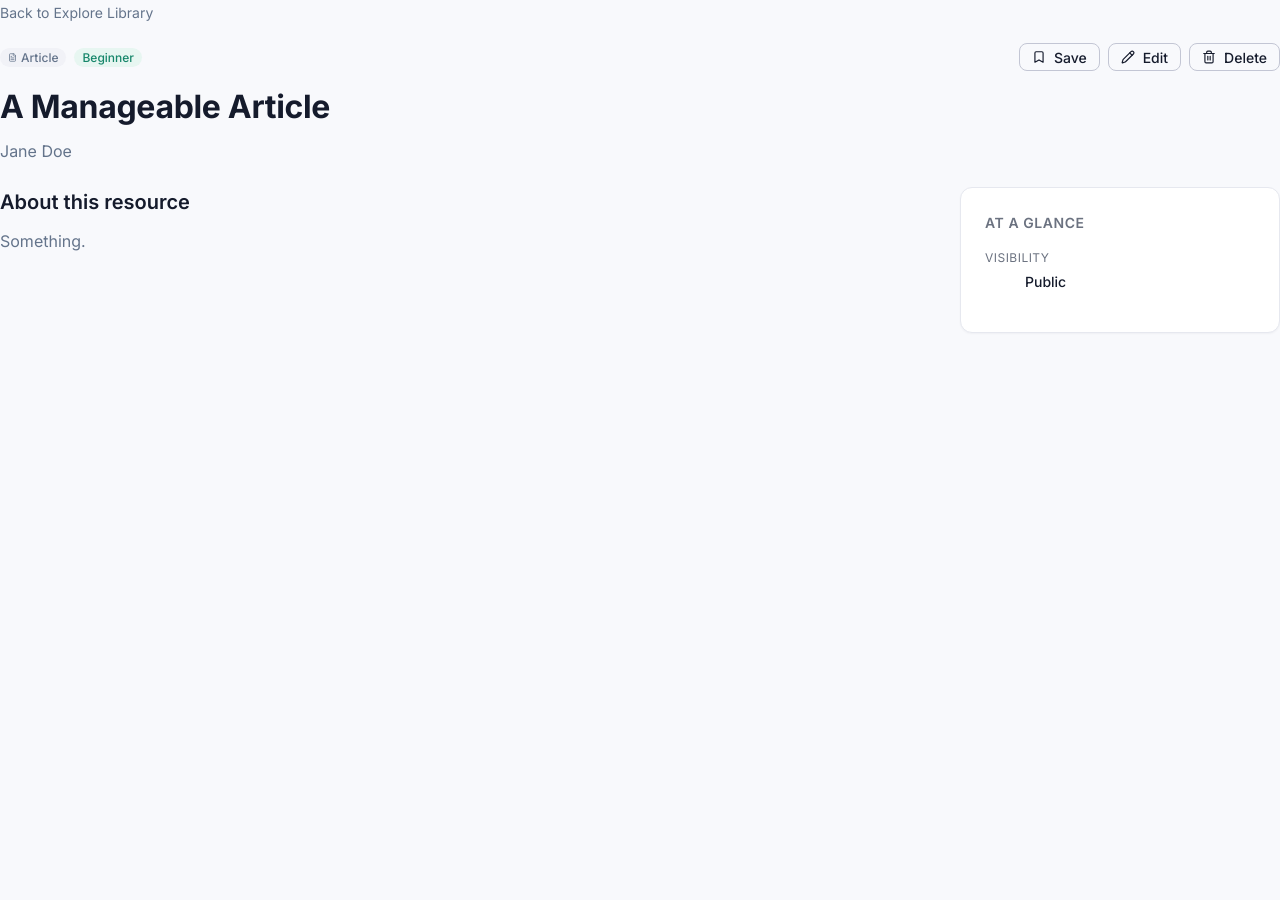
it: ResourceDetailsPage › deletes the resource after explicit confirmation and navigates back to the library
Click the button "Delete" at (1235, 57), box [1189, 43, 1279, 71]
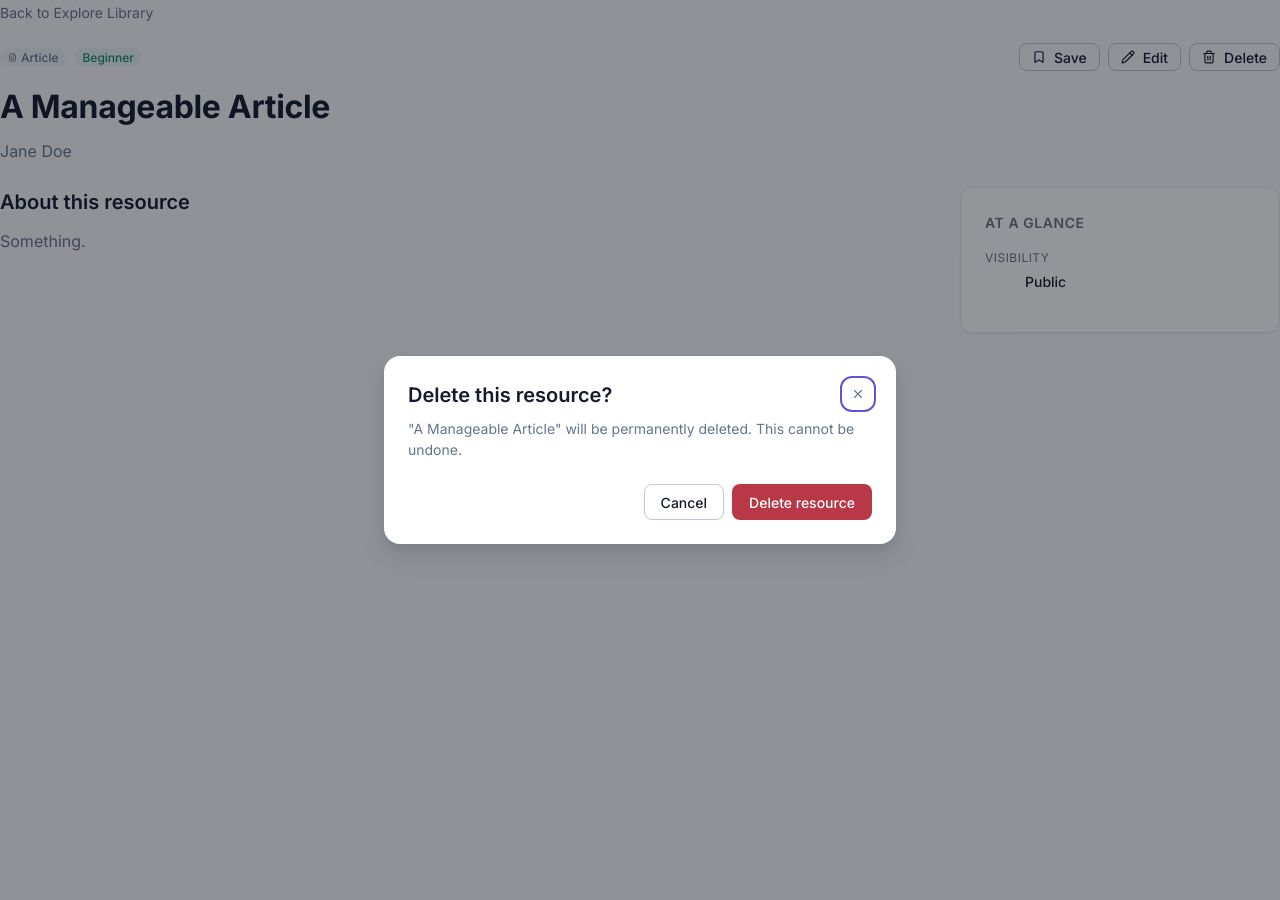
Now the text "will be permanently deleted" is shown, box [408, 420, 854, 458]
Click the button "Delete resource" at (802, 502), box [732, 484, 872, 520]
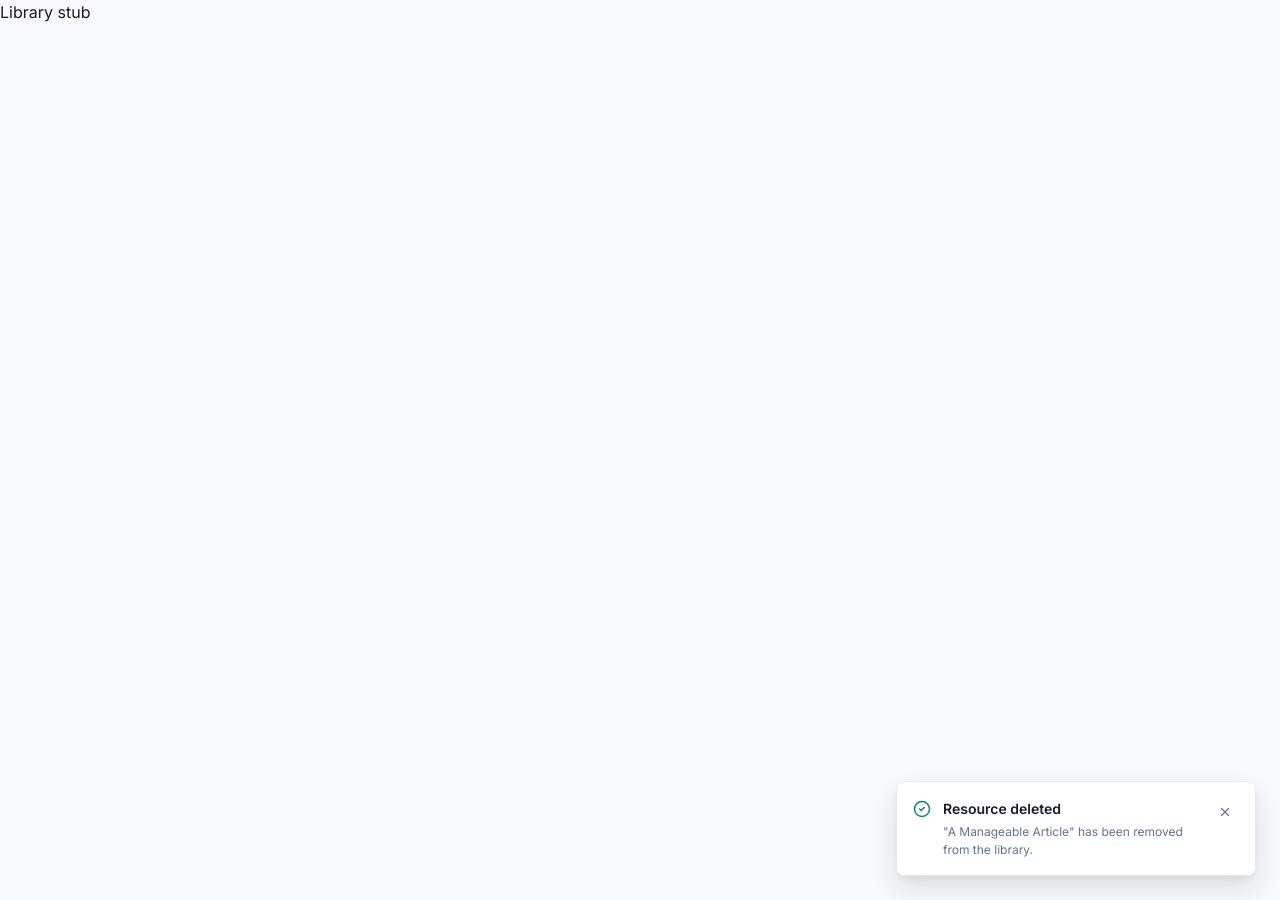
Now the text "Resource deleted" is shown, box [943, 800, 1061, 817]
Now the text "Library stub" is shown, box [0, 2, 90, 22]
